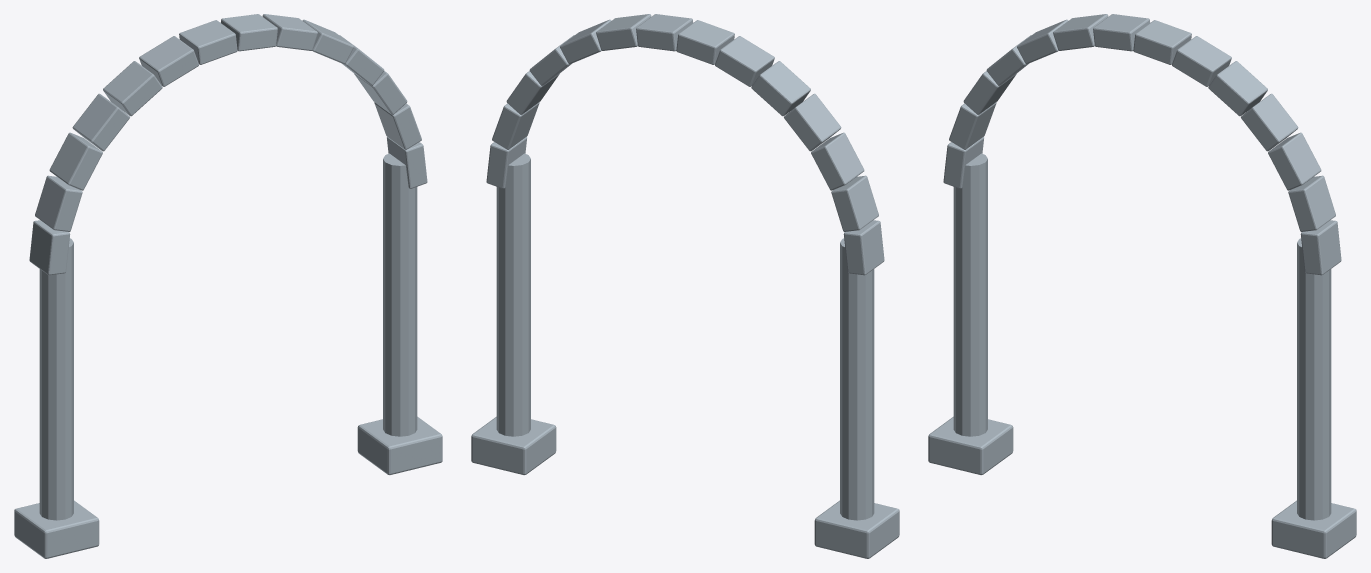
File: a3_arch.glb
The picture shows the model from 3 angles, left to right: view 1: azimuth 30°, elevation 25°; view 2: azimuth 150°, elevation 25°; view 3: azimuth 330°, elevation 25°; orthographic projection.
Visible parts, largest first — view 1: Body.026; view 2: Body.026; view 3: Body.026.
Boxes of the visible parts, x1=… form: Body.026: x1=14, y1=14, x2=442, y2=558; Body.026: x1=471, y1=14, x2=899, y2=558; Body.026: x1=928, y1=14, x2=1356, y2=558.
Size of the model in its own units: 3.48 by 3.96 by 0.48.
